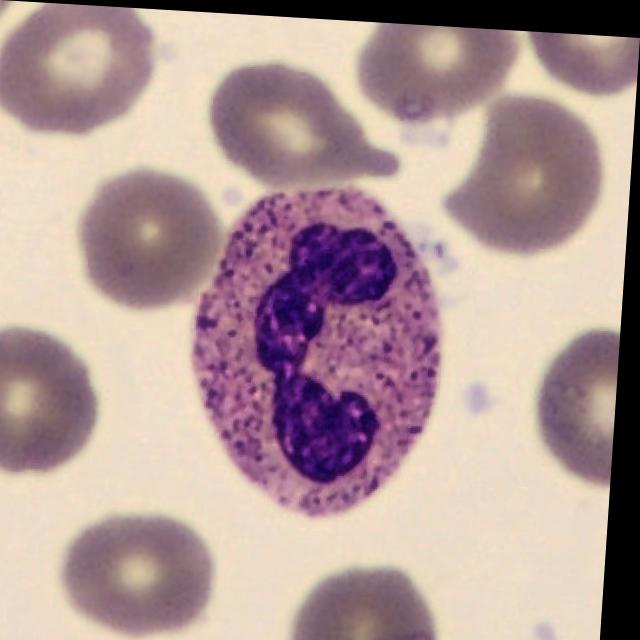Neutrofilo segmentado: (195, 183, 448, 515)
